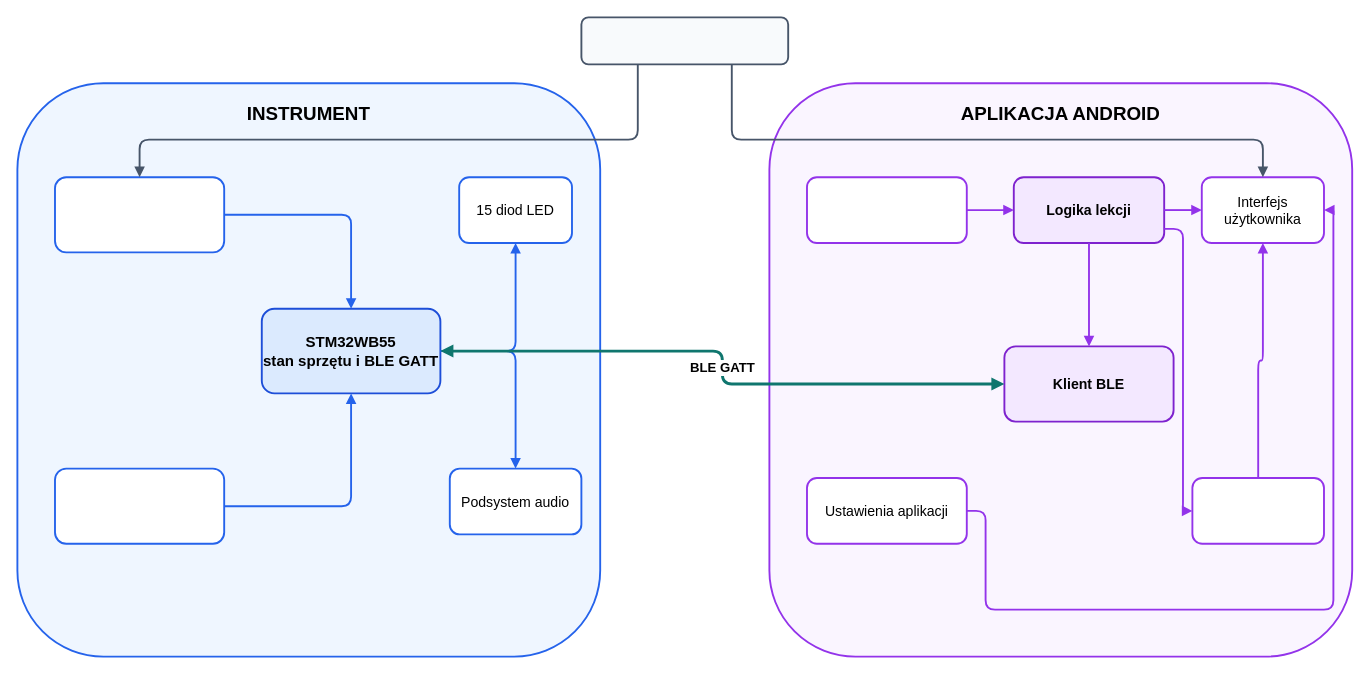
Some shapes in this 1369 by 673 pixel diagram are drawn without their labels. The shapes that lost their labels are listed below. From the top down, each one's centre as x and y in pixels, then its label:
At (x=684, y=40): "Użytkownik".
At (x=139, y=214): "15 czujników wykrywanie wiązki".
At (x=886, y=209): "Katalog utworów".
At (x=139, y=505): "Układ zasilania i pomiar baterii".
At (x=1257, y=510): "Postęp użytkownika".
